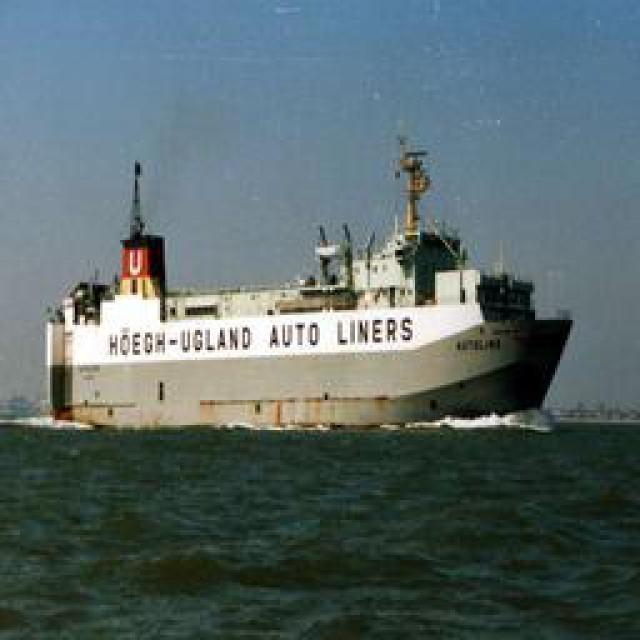Ship: (36, 134, 571, 427)
